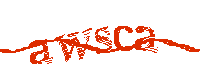a: (27, 38, 52, 65), (134, 24, 156, 52)
c: (113, 24, 136, 54)
s: (91, 24, 113, 55)
w: (55, 27, 93, 65)
